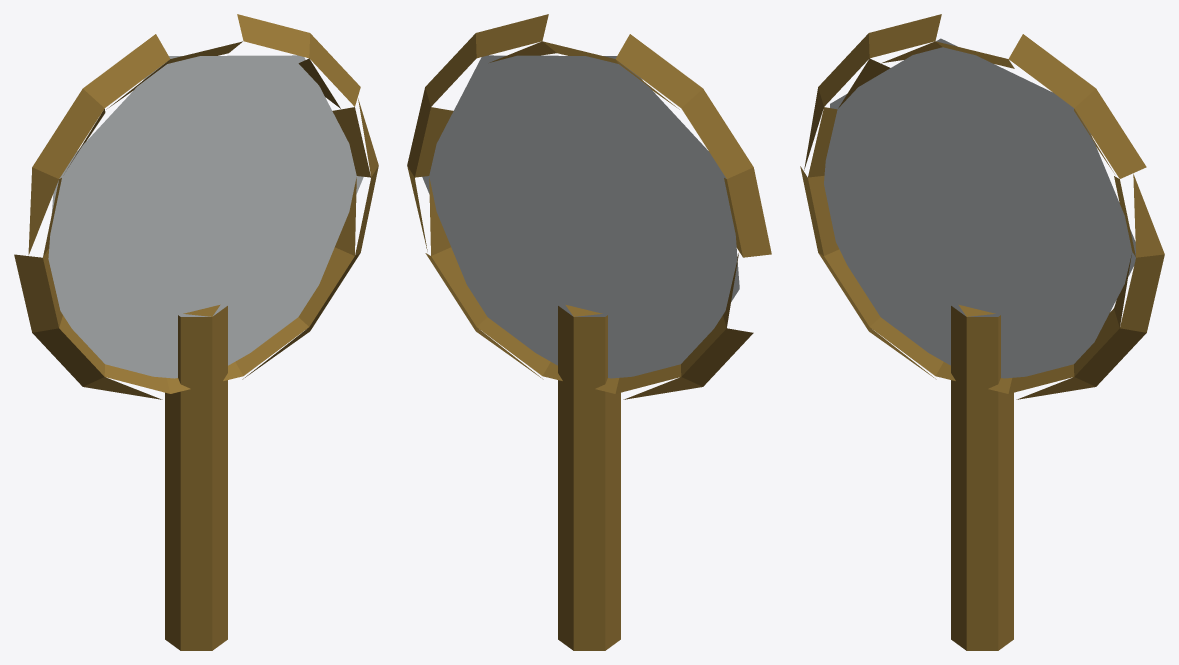
Rendered from mirror.lod.glb.
The picture shows the model from 3 angles, left to right: view 1: azimuth 30°, elevation 25°; view 2: azimuth 150°, elevation 25°; view 3: azimuth 330°, elevation 25°; orthographic projection.
Parts seen in each view (by area): view 1: m; view 2: m; view 3: m.
Part boxes in pixels (x1=…): m: x1=14, y1=14, x2=378, y2=650; m: x1=407, y1=14, x2=771, y2=650; m: x1=800, y1=14, x2=1164, y2=650.
Bounding box in the file's own units: 0.0744 × 0.12 × 0.0112.
